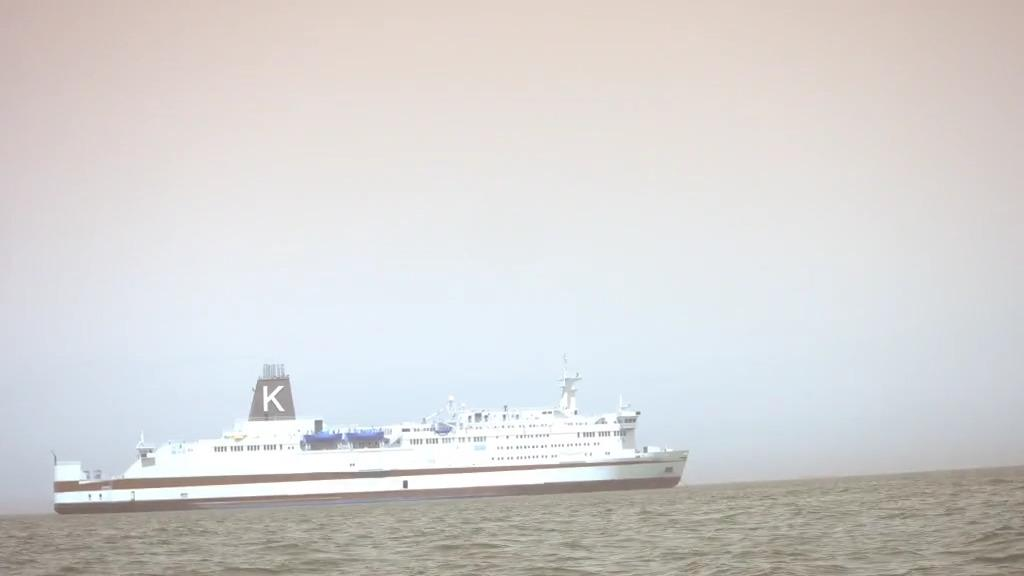PassengerShip: (50, 354, 692, 528)
